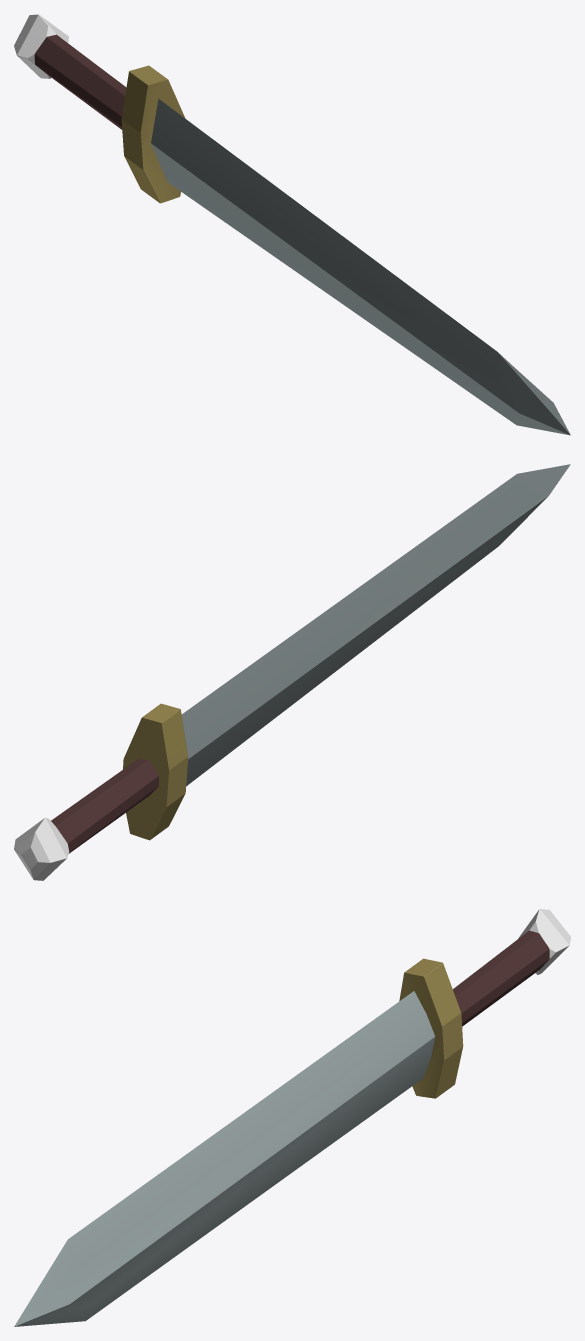
Rendered from sword.fbx.
The picture shows the model from 3 angles, top to bottom: view 1: azimuth 30°, elevation 25°; view 2: azimuth 150°, elevation 25°; view 3: azimuth 330°, elevation 25°; orthographic projection.
Visible parts, largest first — view 1: pCube1; view 2: pCube1; view 3: pCube1.
Boxes of the visible parts, x1,y1,x2,y2 form: pCube1: (14, 14, 570, 435); pCube1: (14, 464, 570, 880); pCube1: (14, 909, 570, 1326).
Bounding box in the file's own units: 4.64 × 10.43 × 84.34.
